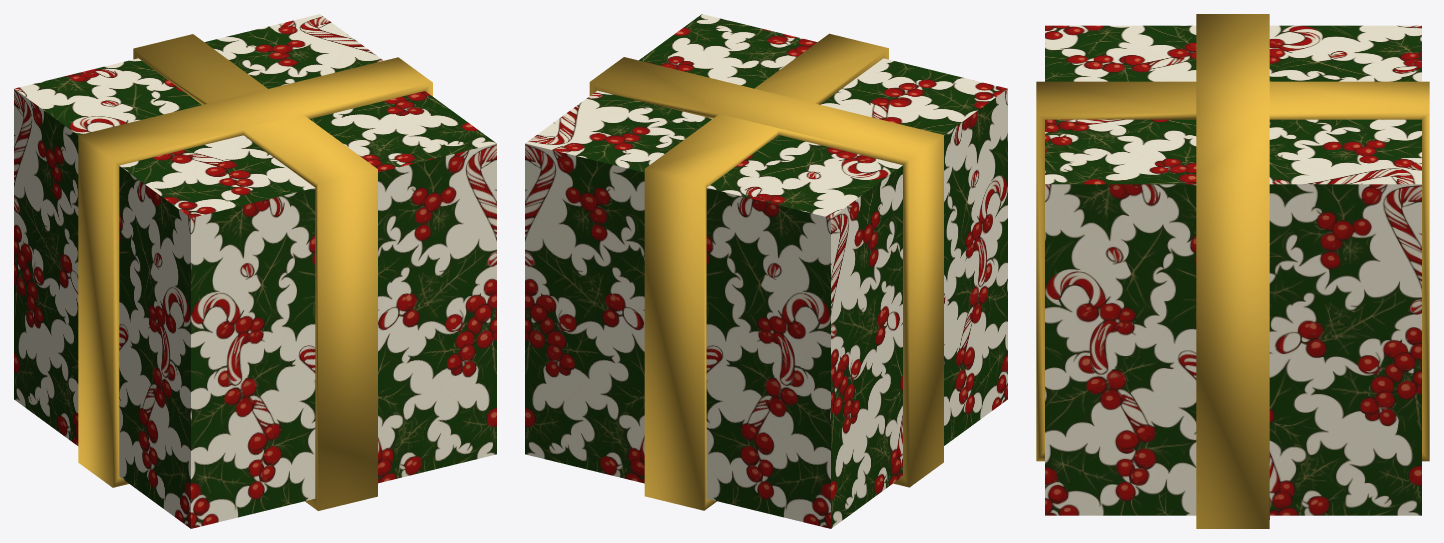
File: giftSmallWhite3.glb
The picture shows the model from 3 angles, left to right: view 1: azimuth 30°, elevation 25°; view 2: azimuth 150°, elevation 25°; view 3: azimuth 270°, elevation 25°; orthographic projection. The views are drawn at different scales.
Parts seen in each view (by area): view 1: GiftSmallWhite3; view 2: GiftSmallWhite3; view 3: GiftSmallWhite3.
Boxes of the visible parts, x1,y1,x2,y2 form: GiftSmallWhite3: (14, 14, 496, 528); GiftSmallWhite3: (525, 14, 1007, 528); GiftSmallWhite3: (1036, 14, 1429, 528).
Size of what is drawn, in the model's own units: 0.6371 by 0.6227 by 0.6371.
2 materials, 2 textured.
